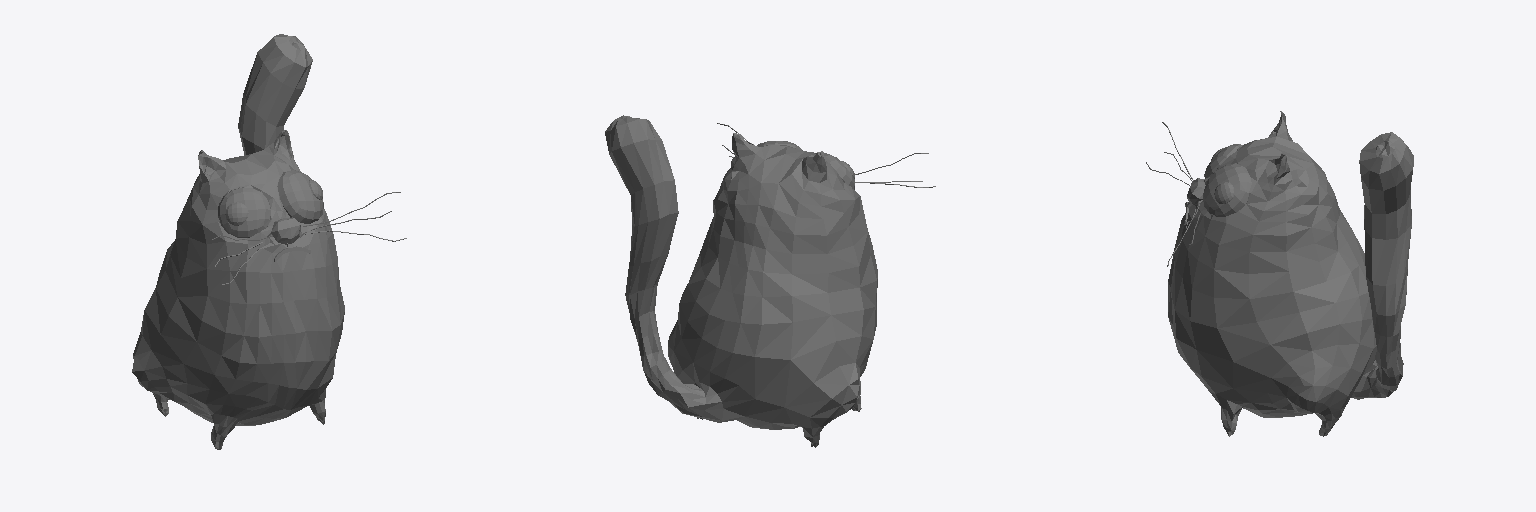
The model's file is Cat.obj.
The picture shows the model from 3 angles: view 1: azimuth 30°, elevation 25°; view 2: azimuth 150°, elevation 25°; view 3: azimuth 270°, elevation 25°; orthographic projection.
Parts seen in each view (by area): view 1: Base_basecat, Eyeballs_eye_white, Nose_black.001; view 2: Base_basecat, Eyeballs_eye_white; view 3: Base_basecat, Eyeballs_eye_white.
Part boxes in pixels (left/top/right/bottom): Base_basecat: left=132, top=34, right=344, bottom=449; Eyeballs_eye_white: left=218, top=170, right=323, bottom=237; Nose_black.001: left=271, top=217, right=300, bottom=244; Base_basecat: left=605, top=115, right=877, bottom=447; Eyeballs_eye_white: left=757, top=141, right=854, bottom=189; Base_basecat: left=1168, top=111, right=1413, bottom=436; Eyeballs_eye_white: left=1203, top=144, right=1251, bottom=216.
Bounding box in the file's own units: 6.25 × 8.95 × 6.82.